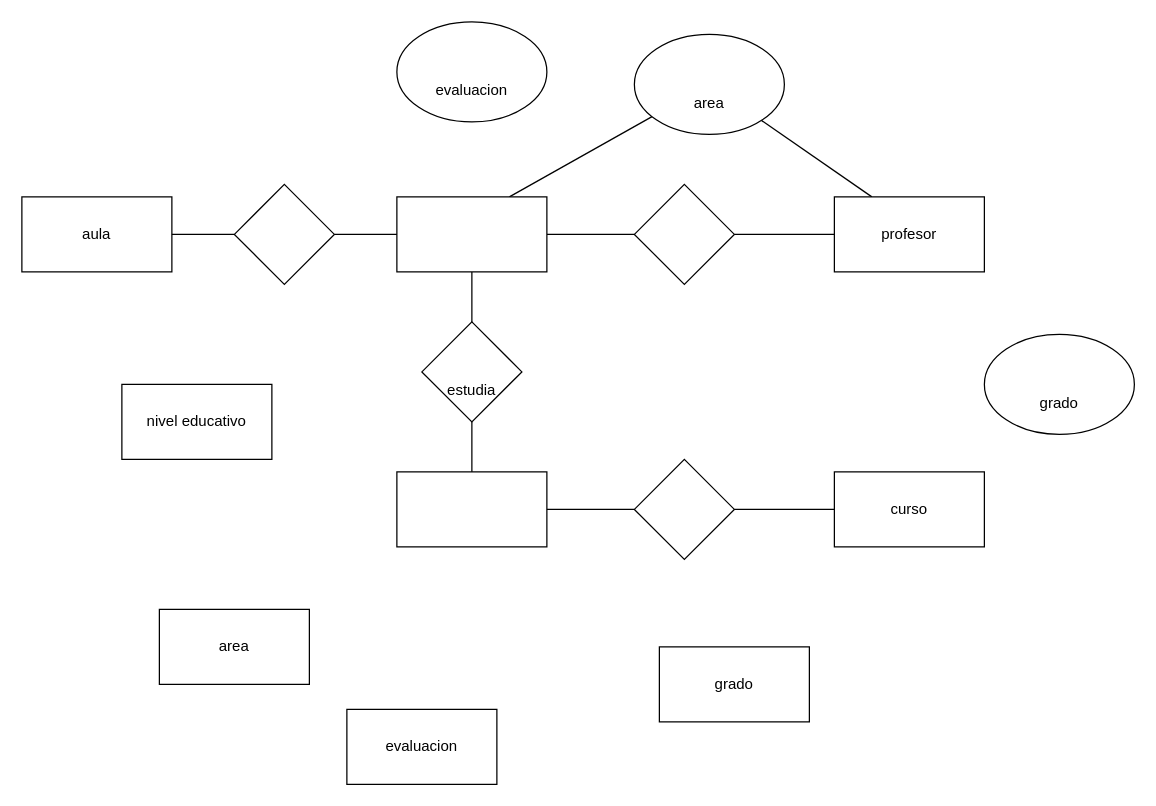
The diagram is 1156 pixels wide and 806 high, and some of its shapes have lost their labels. The shapes that lost their labels are listed below. From the top down, each one's centre as x and y in pixels, then its label:
At (283,233): "tiene".
At (471,234): "materia".
At (683,233): "imparte".
At (471,509): "alumno".
At (683,508): "pertenece".
